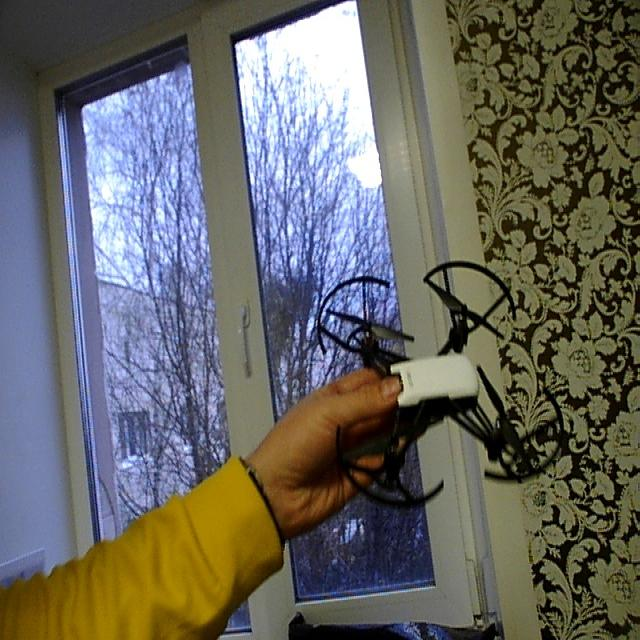drone: (314, 257, 572, 516)
